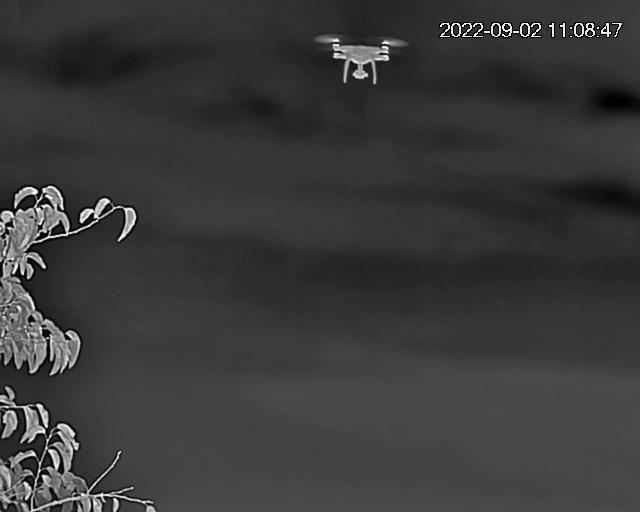DJI-Phantom: (318, 34, 400, 85)
